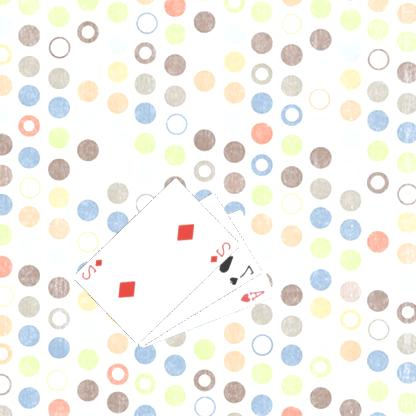2D: (81, 256, 106, 282), (209, 239, 234, 264)
7S: (228, 262, 258, 287)
AH: (239, 288, 269, 304)
